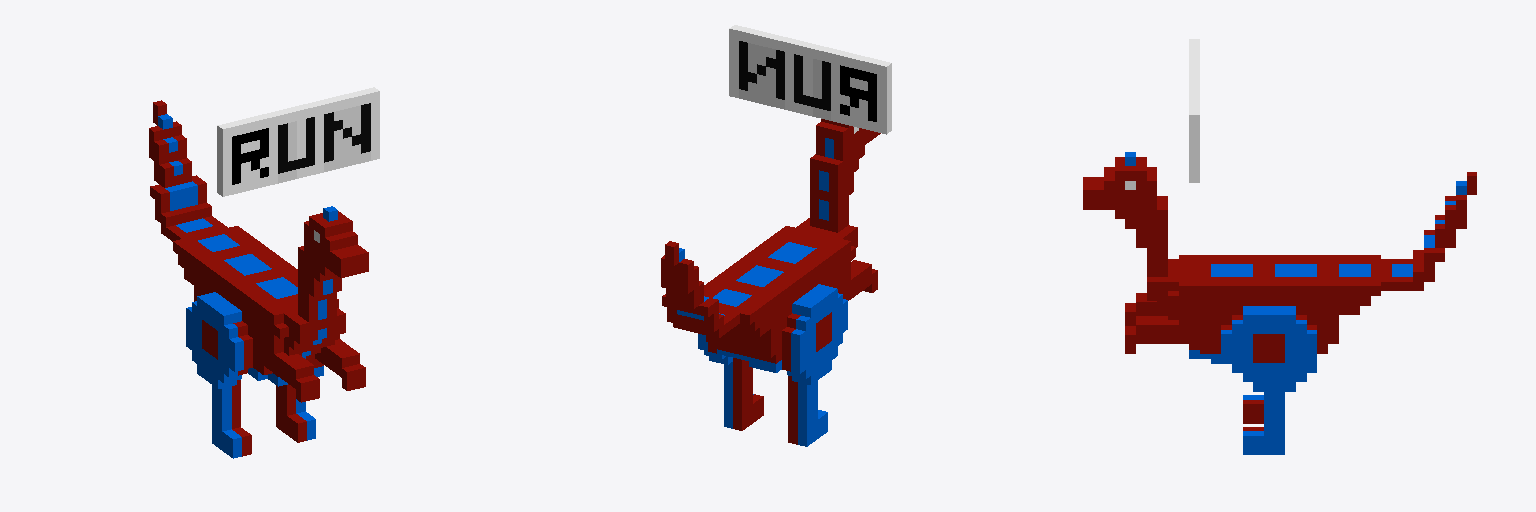
3 views of the same model, side by side, from view 1: azimuth 30°, elevation 25°; view 2: azimuth 150°, elevation 25°; view 3: azimuth 270°, elevation 25° (orthographic).
Parts seen in each view (by area): view 1: Matrix_28; view 2: Matrix_28; view 3: Matrix_28.
Part boxes in pixels (x1,y1,x2,y2): Matrix_28: (149, 87, 379, 458); Matrix_28: (661, 25, 891, 446); Matrix_28: (1083, 39, 1476, 454).
Bounding box in the file's own units: 17 × 37 × 37.
1 materials, 1 textured.